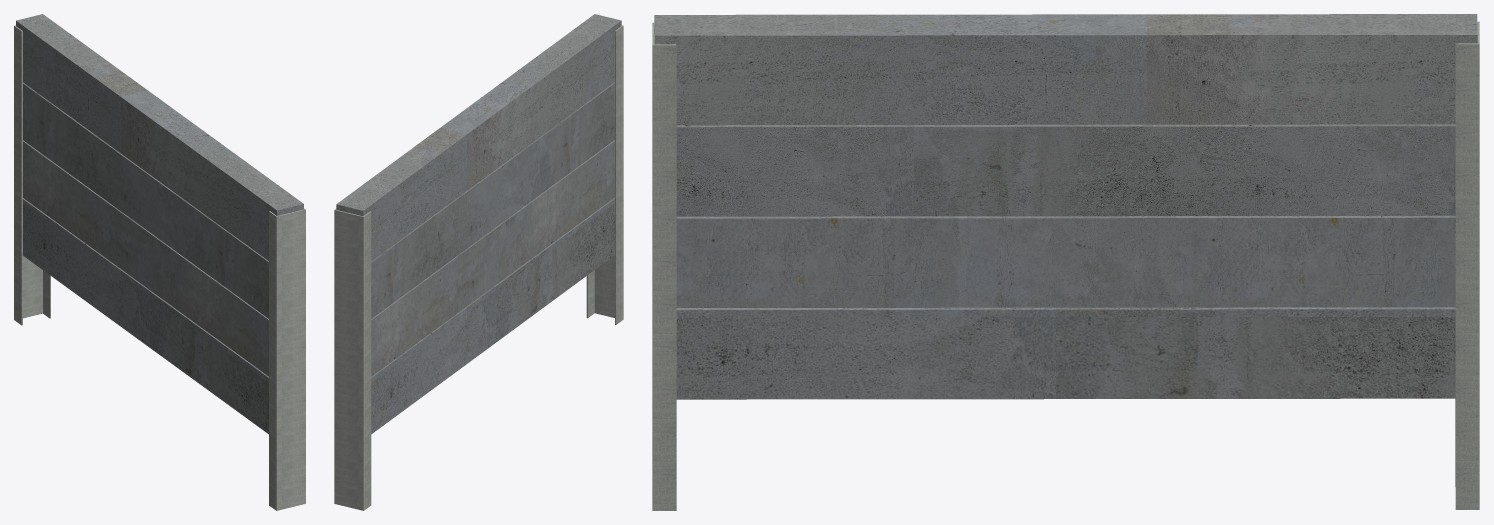
3 views of the same model, side by side, from view 1: azimuth 30°, elevation 25°; view 2: azimuth 150°, elevation 25°; view 3: azimuth 270°, elevation 25° (orthographic). The views are drawn at different scales.
Visible parts, largest first — view 1: Object_3_/Concrete_Flooring_H01_2m_0, Object_5_/Concrete_Flooring_H01_2m_0, Object_4_/Concrete_Flooring_H01_2m_0, Object_6_/Concrete_Flooring_H01_2m_0, Object_1_/Metal_Weathered_Q01_20cm_0, Object_2_/Metal_Weathered_Q01_20cm_0; view 2: Object_3_/Concrete_Flooring_H01_2m_0, Object_6_/Concrete_Flooring_H01_2m_0, Object_5_/Concrete_Flooring_H01_2m_0, Object_4_/Concrete_Flooring_H01_2m_0, Object_2_/Metal_Weathered_Q01_20cm_0, Object_1_/Metal_Weathered_Q01_20cm_0; view 3: Object_3_/Concrete_Flooring_H01_2m_0, Object_4_/Concrete_Flooring_H01_2m_0, Object_6_/Concrete_Flooring_H01_2m_0, Object_5_/Concrete_Flooring_H01_2m_0, Object_1_/Metal_Weathered_Q01_20cm_0, Object_2_/Metal_Weathered_Q01_20cm_0.
Boxes of the visible parts, left/top/right/bottom form: Object_3_/Concrete_Flooring_H01_2m_0: left=16, top=14, right=303, bottom=260; Object_5_/Concrete_Flooring_H01_2m_0: left=23, top=140, right=268, bottom=376; Object_4_/Concrete_Flooring_H01_2m_0: left=23, top=82, right=268, bottom=318; Object_6_/Concrete_Flooring_H01_2m_0: left=23, top=198, right=268, bottom=434; Object_1_/Metal_Weathered_Q01_20cm_0: left=269, top=208, right=305, bottom=510; Object_2_/Metal_Weathered_Q01_20cm_0: left=14, top=25, right=50, bottom=325; Object_3_/Concrete_Flooring_H01_2m_0: left=336, top=14, right=621, bottom=260; Object_6_/Concrete_Flooring_H01_2m_0: left=371, top=197, right=614, bottom=434; Object_5_/Concrete_Flooring_H01_2m_0: left=371, top=140, right=614, bottom=376; Object_4_/Concrete_Flooring_H01_2m_0: left=371, top=82, right=614, bottom=318; Object_2_/Metal_Weathered_Q01_20cm_0: left=334, top=209, right=371, bottom=510; Object_1_/Metal_Weathered_Q01_20cm_0: left=586, top=25, right=623, bottom=324; Object_3_/Concrete_Flooring_H01_2m_0: left=654, top=14, right=1477, bottom=125; Object_4_/Concrete_Flooring_H01_2m_0: left=676, top=124, right=1455, bottom=216; Object_6_/Concrete_Flooring_H01_2m_0: left=676, top=307, right=1455, bottom=399; Object_5_/Concrete_Flooring_H01_2m_0: left=676, top=215, right=1455, bottom=307; Object_1_/Metal_Weathered_Q01_20cm_0: left=652, top=22, right=676, bottom=510; Object_2_/Metal_Weathered_Q01_20cm_0: left=1455, top=21, right=1479, bottom=509.
Size of the model in its own units: 51 by 477 by 754.
2 materials, 2 textured.
